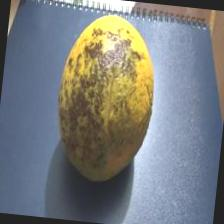Orange Rotten: (46, 0, 174, 192)
